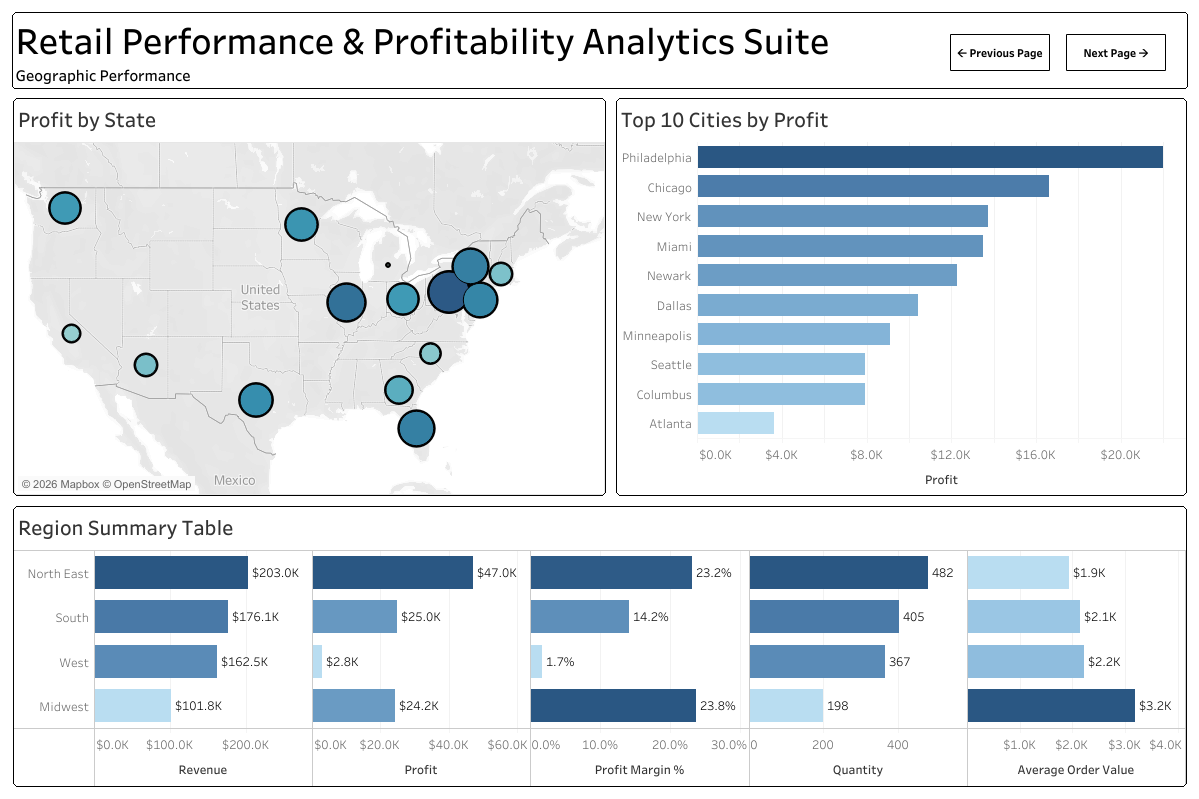

This screenshot's page, from the dashboard's own definition file:
{"tool":"tableau","page":{"name":"Geographic Performance","canvas":[1200,800],"ordinal":1},"visuals":[{"type":"text","box":[8,8,1184,85]},{"type":"dashboard-object","box":[950,34,100,37]},{"type":"dashboard-object","box":[1066,34,100,37]},{"type":"worksheet","title":"Prof by State","mark":"Automatic","box":[8,93,603,408]},{"type":"worksheet","title":"Top 10 City","mark":"Automatic","rows":["city"],"cols":["profit"],"box":[611,93,581,408]},{"type":"worksheet","title":"Region Summary","mark":"Automatic","rows":["region"],"cols":["revenue","profit","Calculation_0014094019813394","quantity","Calculation_0014094052712458"],"box":[8,501,1184,291]}]}

Visuals, with their boxes in screenshot pixels (x1, y1, x2, y2), scaled from the page's 1200x800 canvas onto the 1199x799 screenshot:
text: 8, 8, 1191, 93
dashboard-object: 949, 34, 1049, 71
dashboard-object: 1065, 34, 1165, 71
"Prof by State" worksheet: 8, 93, 610, 500
"Top 10 City" worksheet: 610, 93, 1191, 500
"Region Summary" worksheet: 8, 500, 1191, 791
